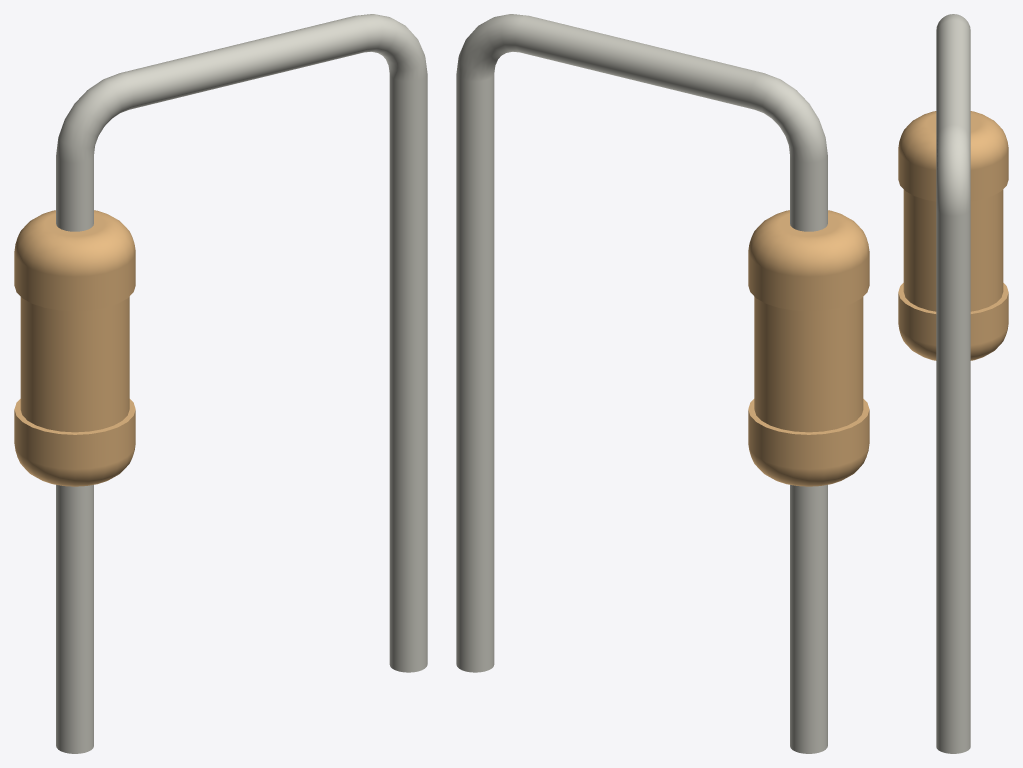
The model's file is Resistor_THT__R_Axial_DIN0204_L3.6mm_D1.6mm_P5.08mm_Vertical.glb.
3 renders of one model, left to right at view 1: azimuth 30°, elevation 25°; view 2: azimuth 150°, elevation 25°; view 3: azimuth 270°, elevation 25°, orthographic. The views are drawn at different scales.
Visible parts, largest first — view 1: R_Axial_DIN0204_L36mm_D16mm_P508mm_Vertical; view 2: R_Axial_DIN0204_L36mm_D16mm_P508mm_Vertical; view 3: R_Axial_DIN0204_L36mm_D16mm_P508mm_Vertical.
Boxes of the visible parts, <box> form: R_Axial_DIN0204_L36mm_D16mm_P508mm_Vertical: <box>14,14,427,753</box>; R_Axial_DIN0204_L36mm_D16mm_P508mm_Vertical: <box>456,14,869,753</box>; R_Axial_DIN0204_L36mm_D16mm_P508mm_Vertical: <box>898,14,1008,753</box>.
Bounding box in the file's own units: 0.00613 × 0.0096 × 0.0016.
